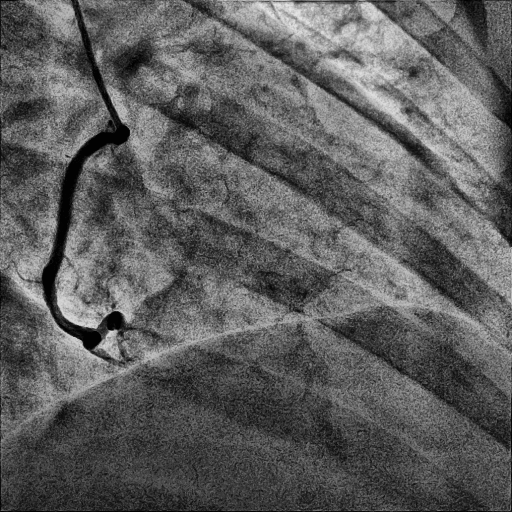rca: (42, 133, 124, 340)
